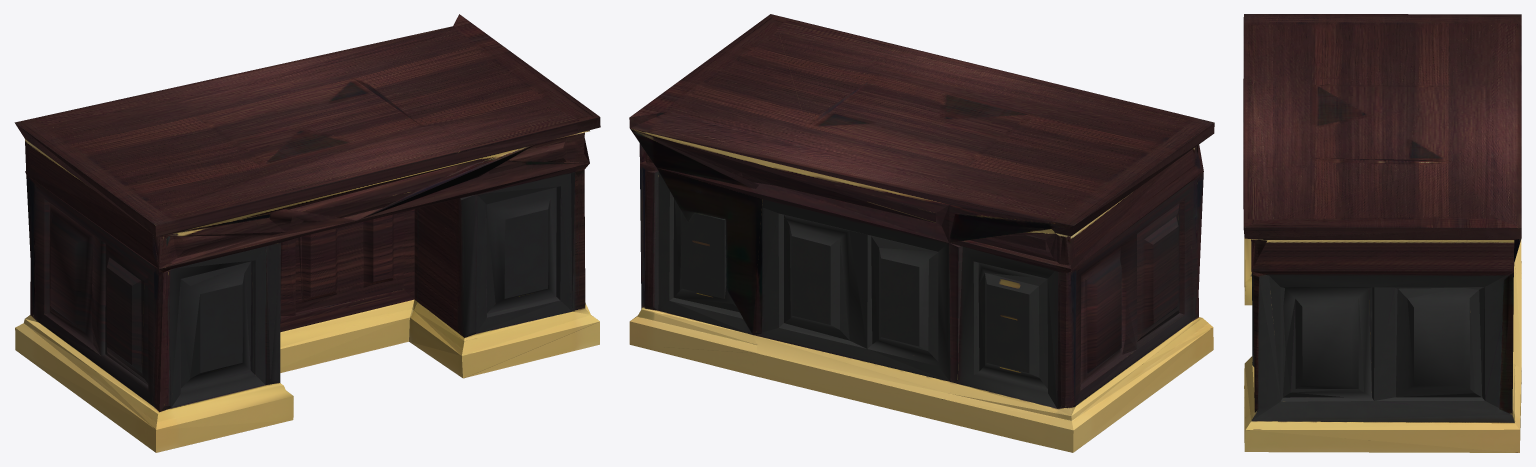
The model's file is PR_ExecutiveDesk.fbx.
3 views of the same model, side by side, from view 1: azimuth 30°, elevation 25°; view 2: azimuth 150°, elevation 25°; view 3: azimuth 270°, elevation 25° (orthographic).
Parts seen in each view (by area): view 1: Mesh_0; view 2: Mesh_0; view 3: Mesh_0.
Part boxes in pixels (x1=…): Mesh_0: x1=14, y1=14, x2=600, y2=452; Mesh_0: x1=629, y1=14, x2=1214, y2=452; Mesh_0: x1=1243, y1=14, x2=1521, y2=452.
Size of the model in its own units: 190 by 93.05 by 104.
Materials: 1 (1 with a texture image).
